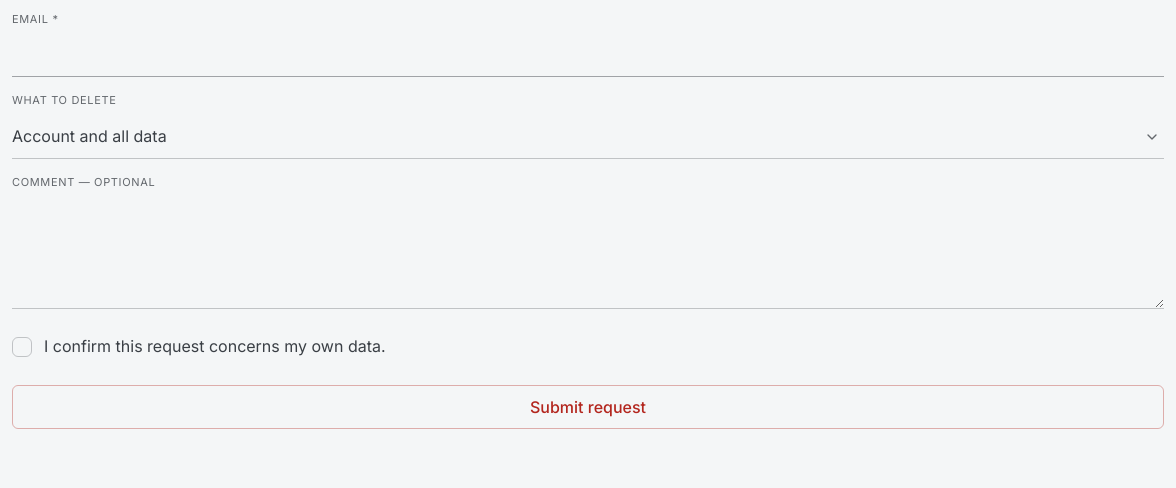
Test: DeletionRequestForm › a 429 shows the rate-limit message, not the generic one
Type "user@example.com" into the field labelled "Email *" at coordinates (588, 55), box [12, 33, 1164, 77]
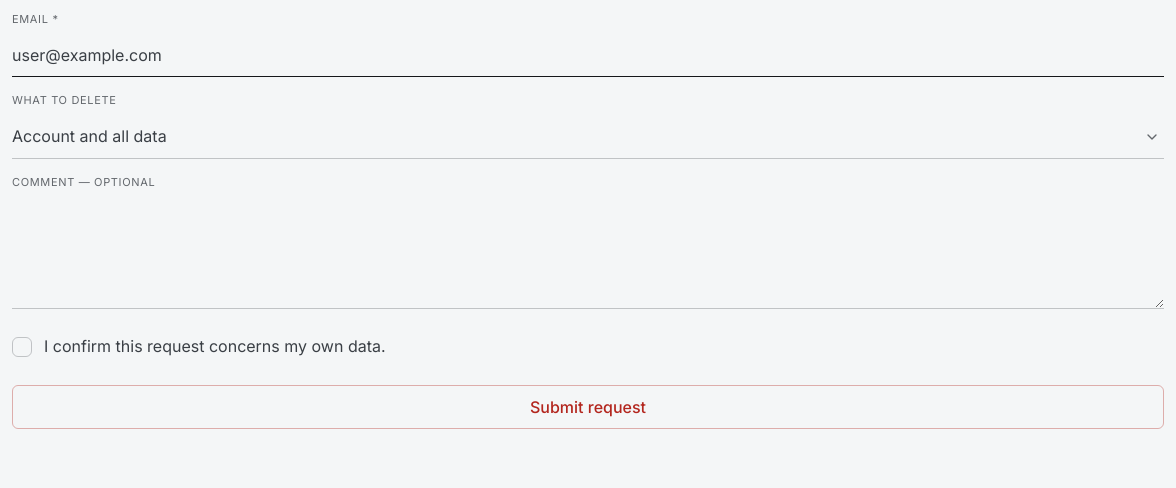
Click the checkbox labelled "I confirm this request concerns my own data." at coordinates (199, 347), box [12, 336, 386, 357]
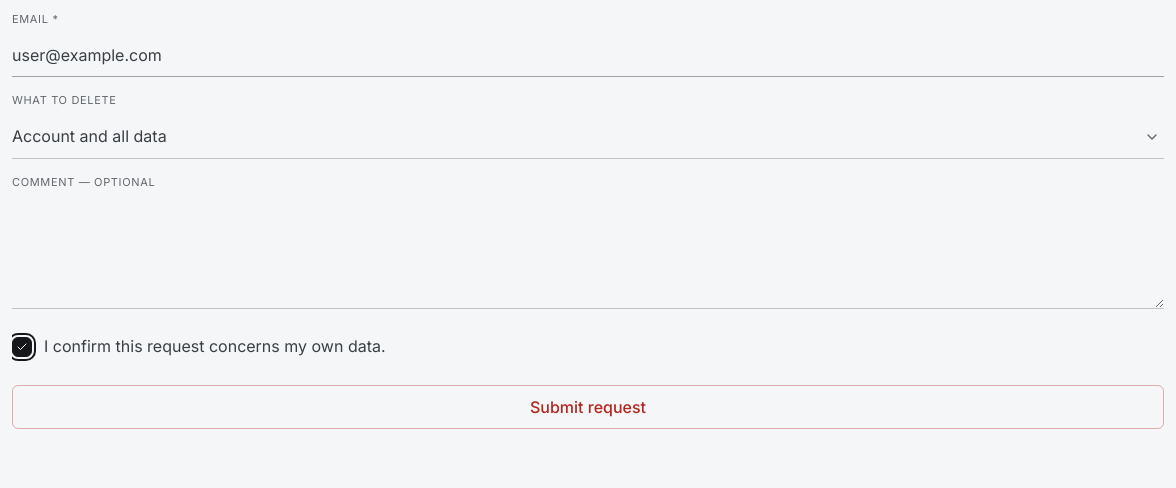
Click the button "Submit request" at coordinates (588, 407), box [12, 385, 1164, 429]
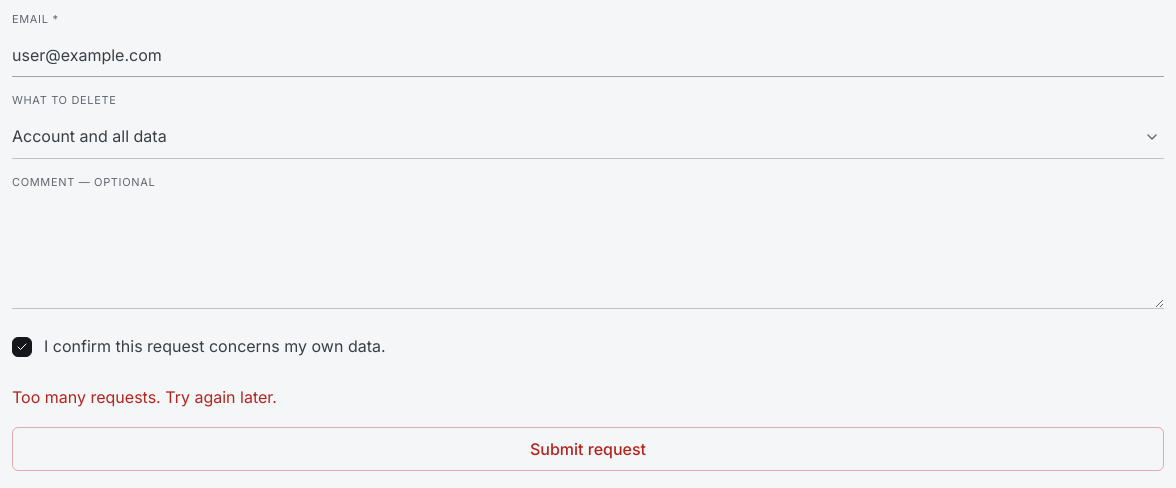
Expected: the message reads "Too many requests. Try again later.", [12, 387, 277, 407]
